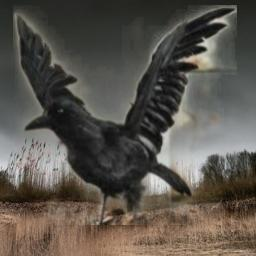Crow: (13, 5, 237, 225)
